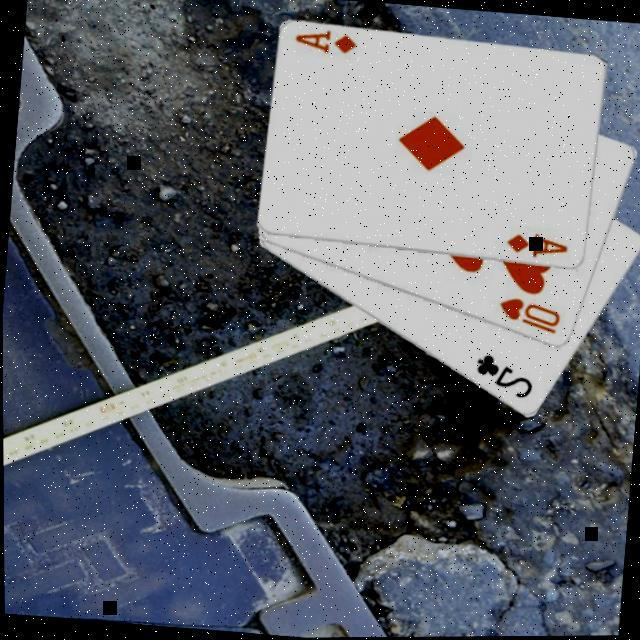10H: (495, 295, 566, 340)
2C: (471, 351, 539, 404)
AD: (504, 229, 572, 265), (293, 27, 361, 61)
